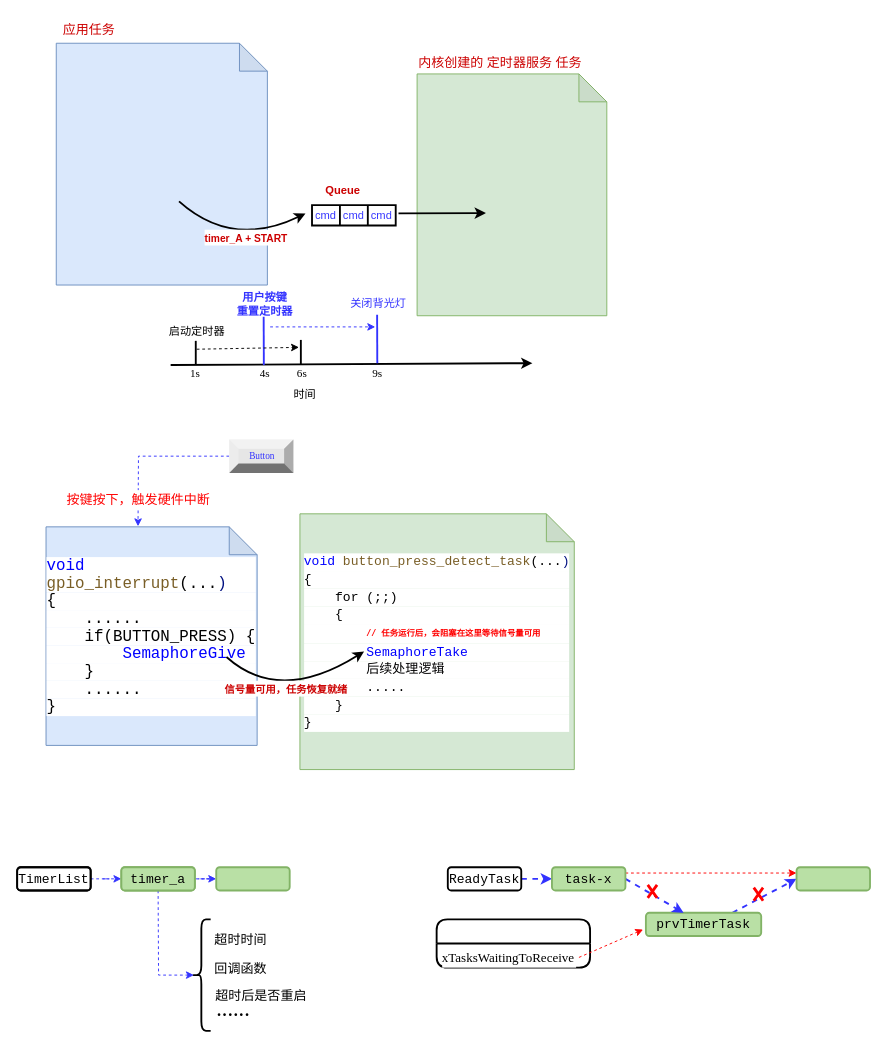
Some shapes in this 886 by 1047 pixel diagram are drawn without their labels. Here are the shapes that lost their labels. From the top down, the box of each, then its label:
(55, 42, 267, 285): void app_task (... ) { ..... timer_A= xTimerCreate xTimerStart (timer_A) ..... }
(416, 73, 607, 316): void prvTimerTask (... ) { for (;;) { ..... QueueReceive ..... } }
(215, 866, 290, 891): timer_b
(795, 866, 870, 891): task-y
(435, 918, 591, 968): xTimerQueue
